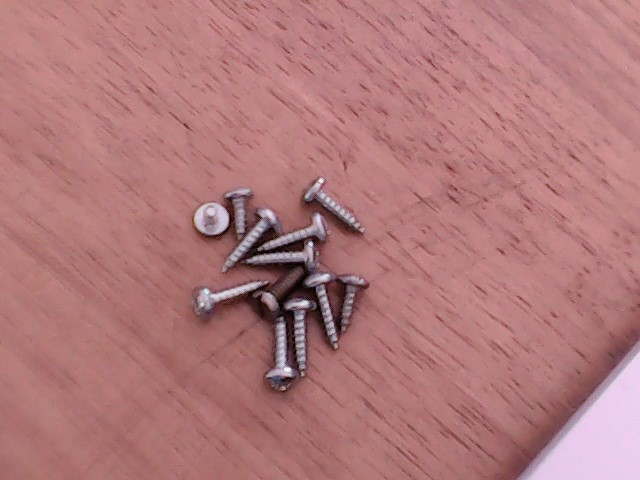Metal: (191, 163, 357, 395)
